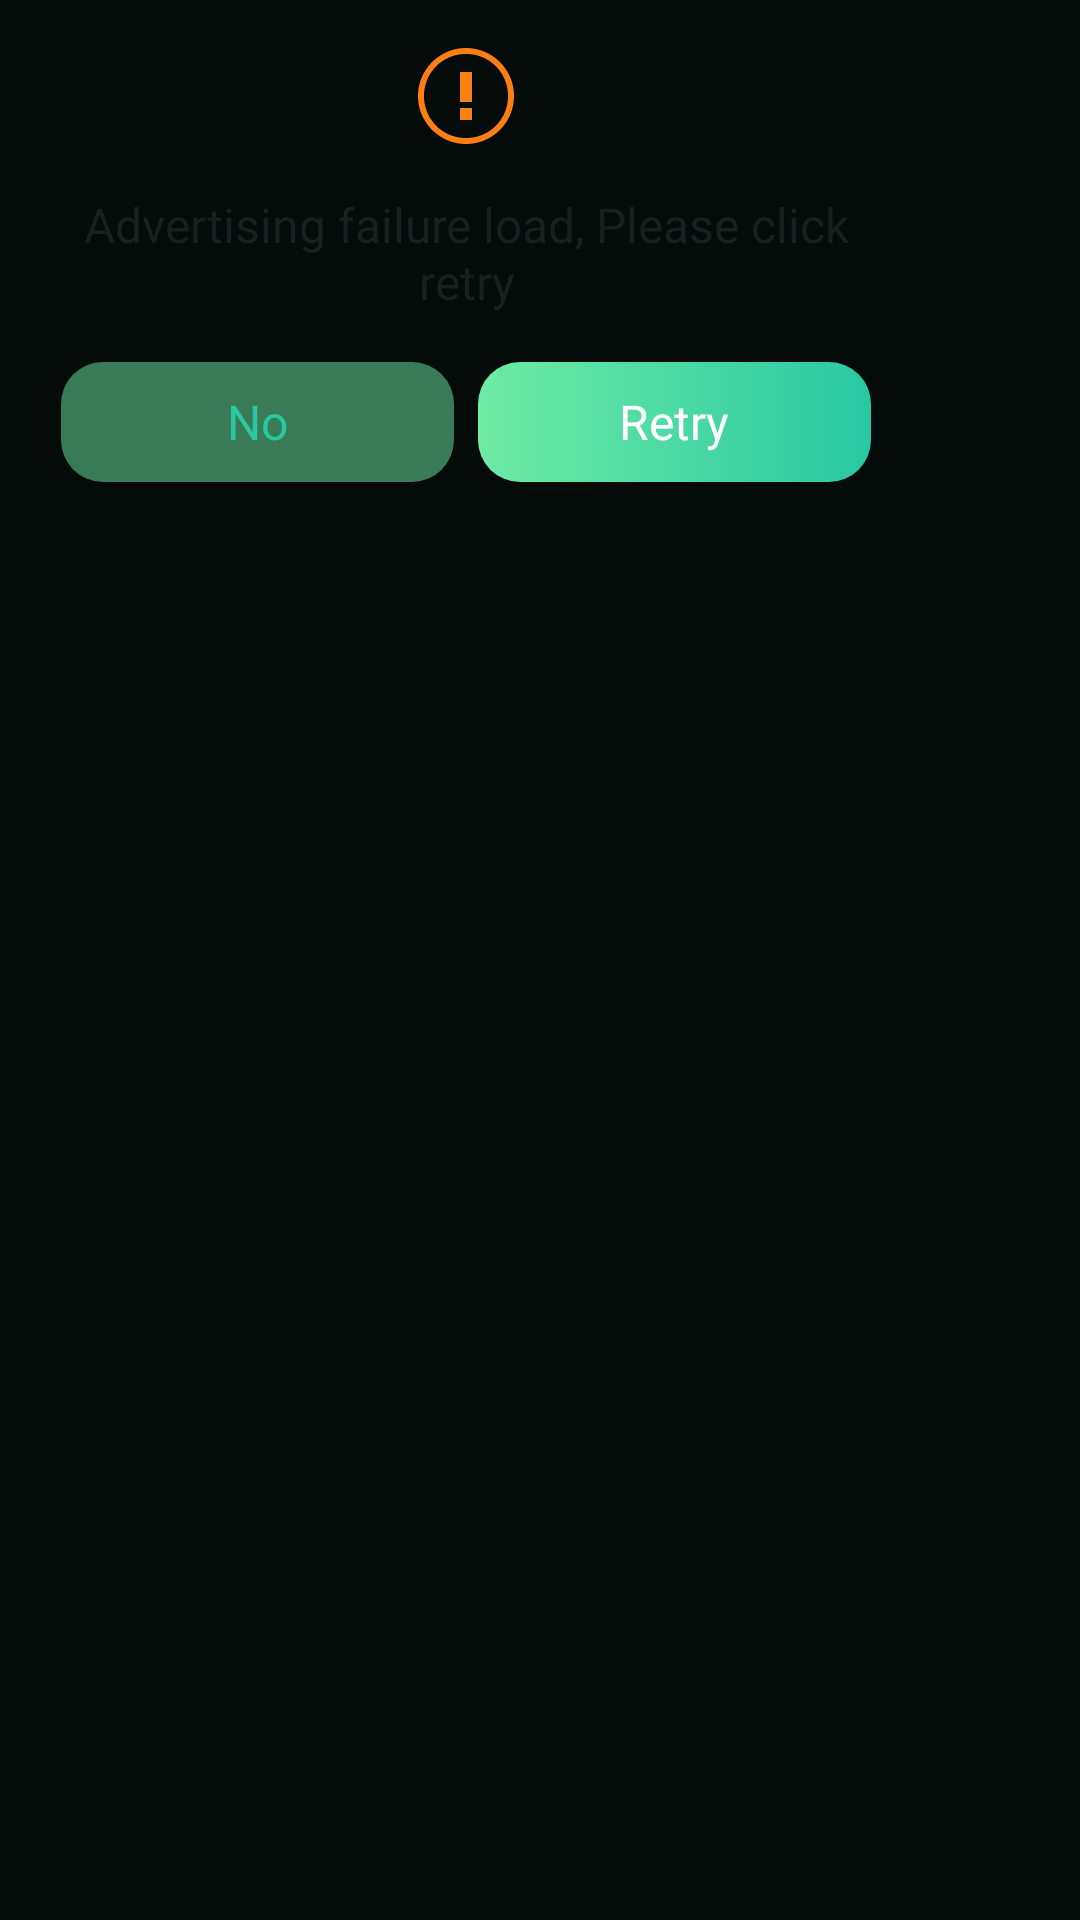

Screen size 1080px×1920px. Icon name, then its center in pixels as point (x, y):
warn: point (466, 96)
